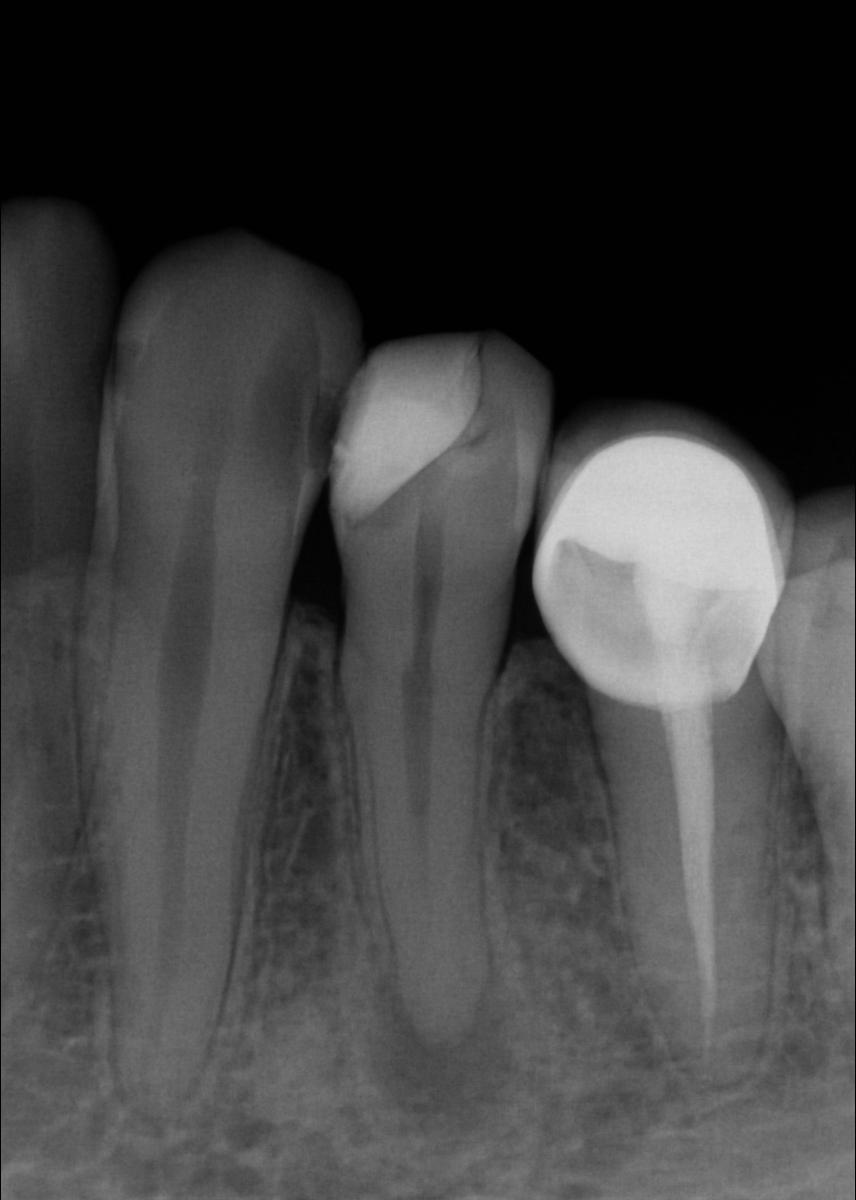Furcation Involvement: (369, 964, 519, 1149)
